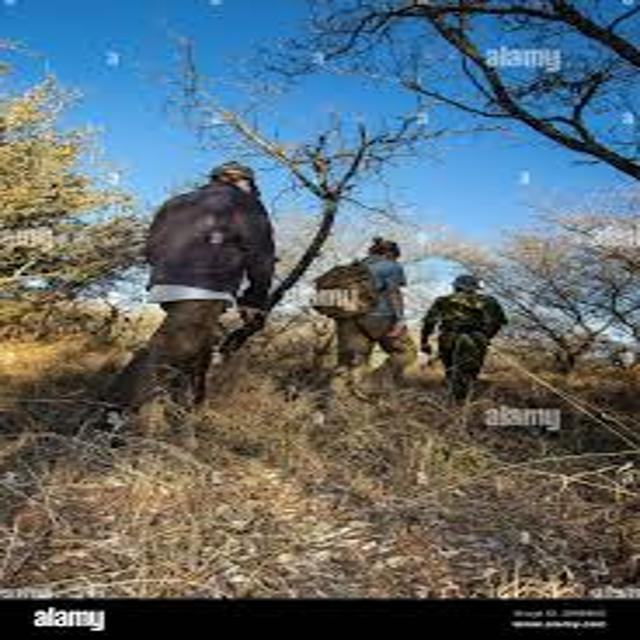backpack: (297, 248, 387, 334)
poacher: (68, 136, 298, 446), (283, 203, 440, 424), (409, 253, 521, 432)
